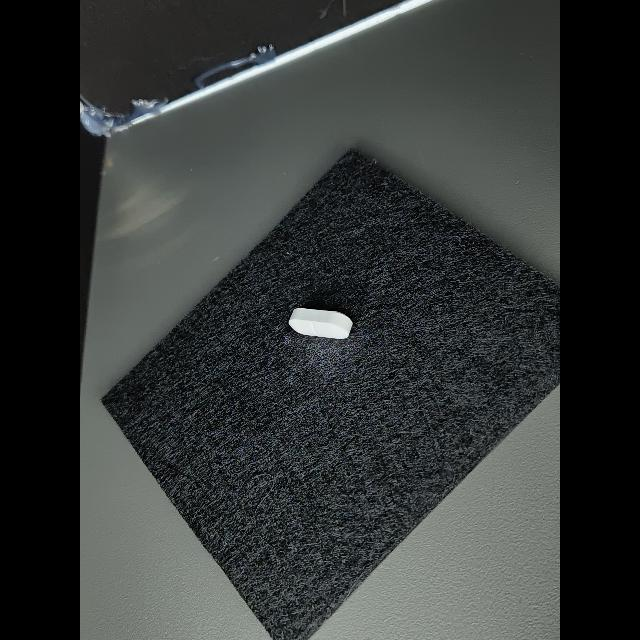Intact Pill: (289, 308, 352, 339)
